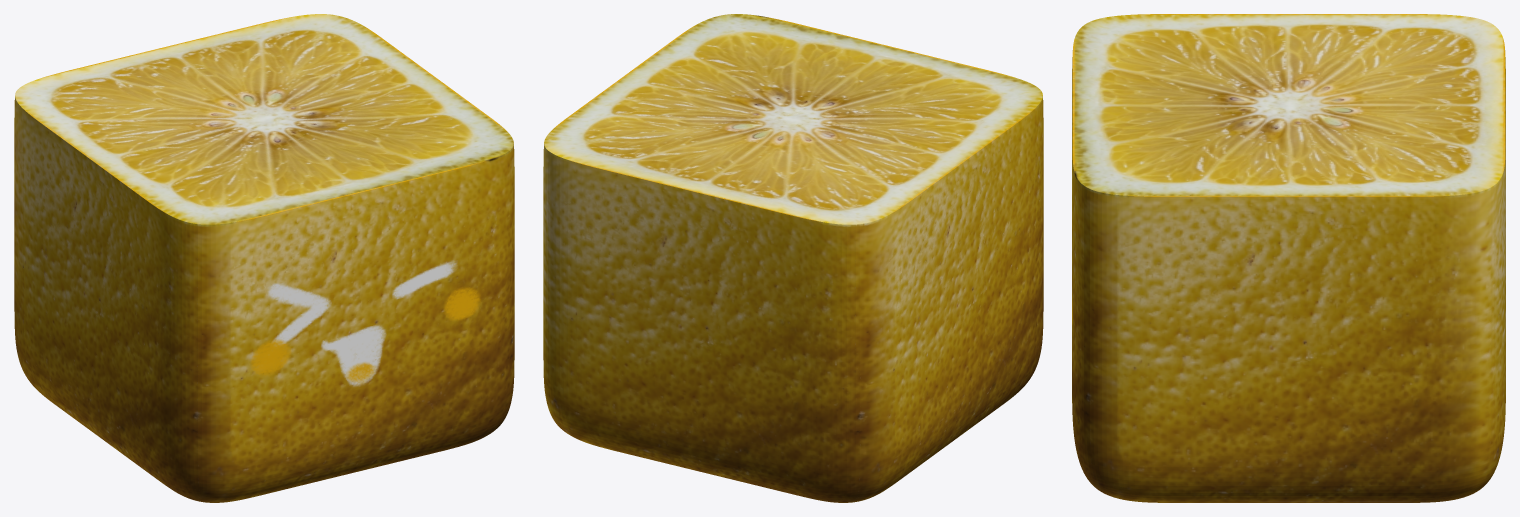
The model's file is Lemon.glb.
The picture shows the model from 3 angles, left to right: view 1: azimuth 30°, elevation 25°; view 2: azimuth 150°, elevation 25°; view 3: azimuth 270°, elevation 25°; orthographic projection. The views are drawn at different scales.
Visible parts, largest first — view 1: 상자_상자_상자_상자; view 2: 상자_상자_상자_상자; view 3: 상자_상자_상자_상자.
Part boxes in pixels (x1,y1,x2,y2): 상자_상자_상자_상자: (14,14,514,502); 상자_상자_상자_상자: (543,14,1043,502); 상자_상자_상자_상자: (1072,14,1505,502).
Bounding box in the file's own units: 1 × 0.8323 × 1.
Materials: 1 (1 with a texture image).
